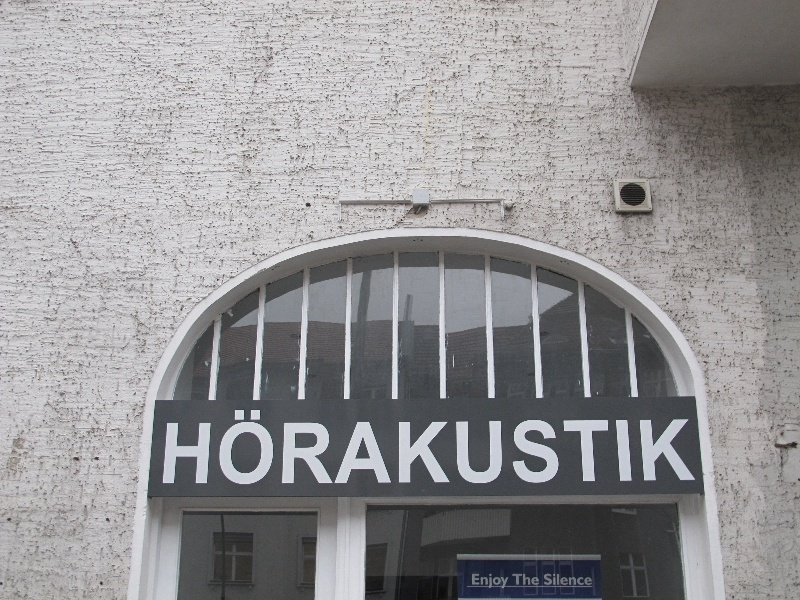text: (177, 408, 192, 488), (193, 408, 208, 488), (209, 408, 224, 488), (225, 408, 240, 488), (241, 408, 256, 488), (257, 408, 272, 488), (273, 408, 288, 488), (289, 408, 304, 488), (305, 408, 320, 488), (321, 408, 336, 488), (337, 408, 352, 488), (353, 408, 368, 488), (369, 408, 384, 488), (385, 408, 400, 488), (401, 408, 416, 488), (417, 408, 432, 488), (433, 408, 448, 488), (449, 408, 464, 488), (465, 408, 480, 488), (481, 408, 496, 488), (497, 408, 512, 488), (513, 408, 528, 488), (529, 408, 544, 488), (545, 408, 560, 488), (561, 408, 576, 488), (577, 408, 592, 488), (593, 408, 608, 488), (609, 408, 624, 488), (625, 408, 640, 488), (641, 408, 656, 488), (657, 408, 672, 488), (673, 408, 688, 488), (167, 408, 176, 488), (689, 408, 697, 488), (481, 574, 496, 590), (497, 574, 510, 590), (513, 574, 528, 586), (545, 574, 560, 586), (561, 574, 576, 586), (577, 574, 592, 586), (529, 574, 540, 586), (472, 574, 480, 590)
